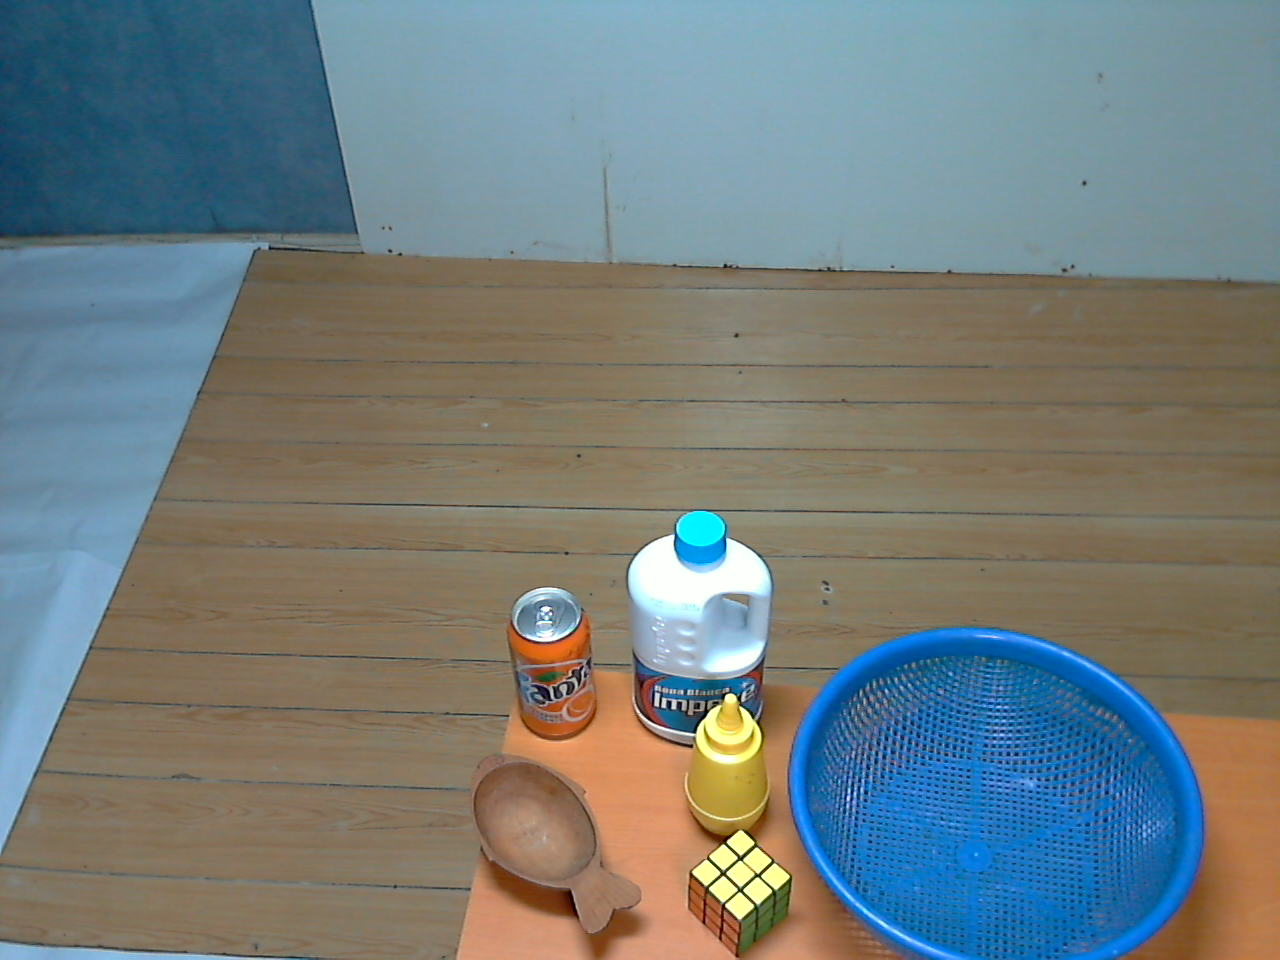cloro: (611, 506, 783, 760)
colador: (776, 626, 1225, 960)
cubix: (666, 817, 804, 960)
lata: (498, 583, 607, 745)
mostaza: (674, 689, 788, 854)
pescado: (454, 750, 649, 944)
